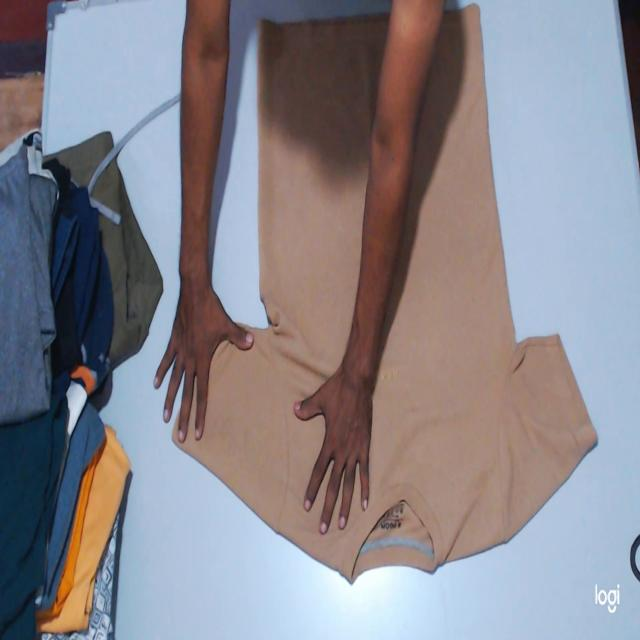new-garment: (174, 5, 596, 580)
